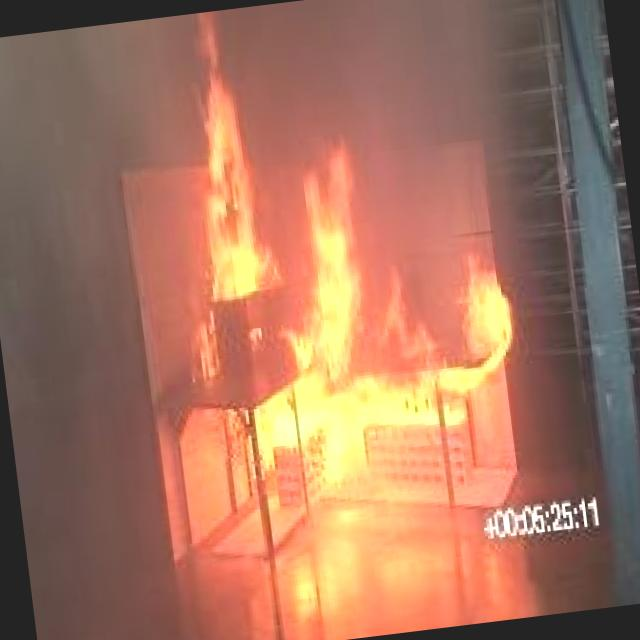fire: (139, 0, 540, 568)
